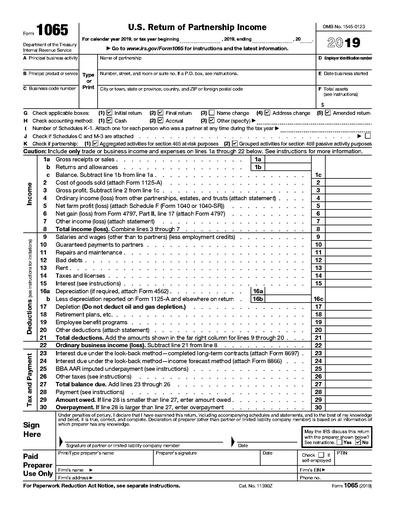filled checkbox: (231, 139, 238, 147), (157, 108, 164, 115), (157, 116, 164, 123), (208, 116, 215, 123), (91, 139, 98, 146), (324, 109, 332, 115), (354, 439, 362, 445), (106, 109, 112, 116), (264, 109, 270, 116), (106, 117, 112, 123)
unfilled checkbox: (365, 132, 372, 139), (318, 451, 325, 458), (209, 109, 215, 116), (336, 439, 343, 445)
